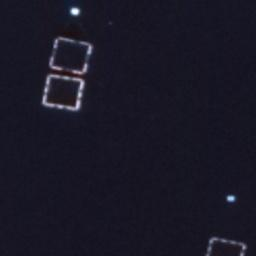square_solid: (46, 34, 95, 78), (40, 72, 89, 114), (203, 232, 249, 256)
